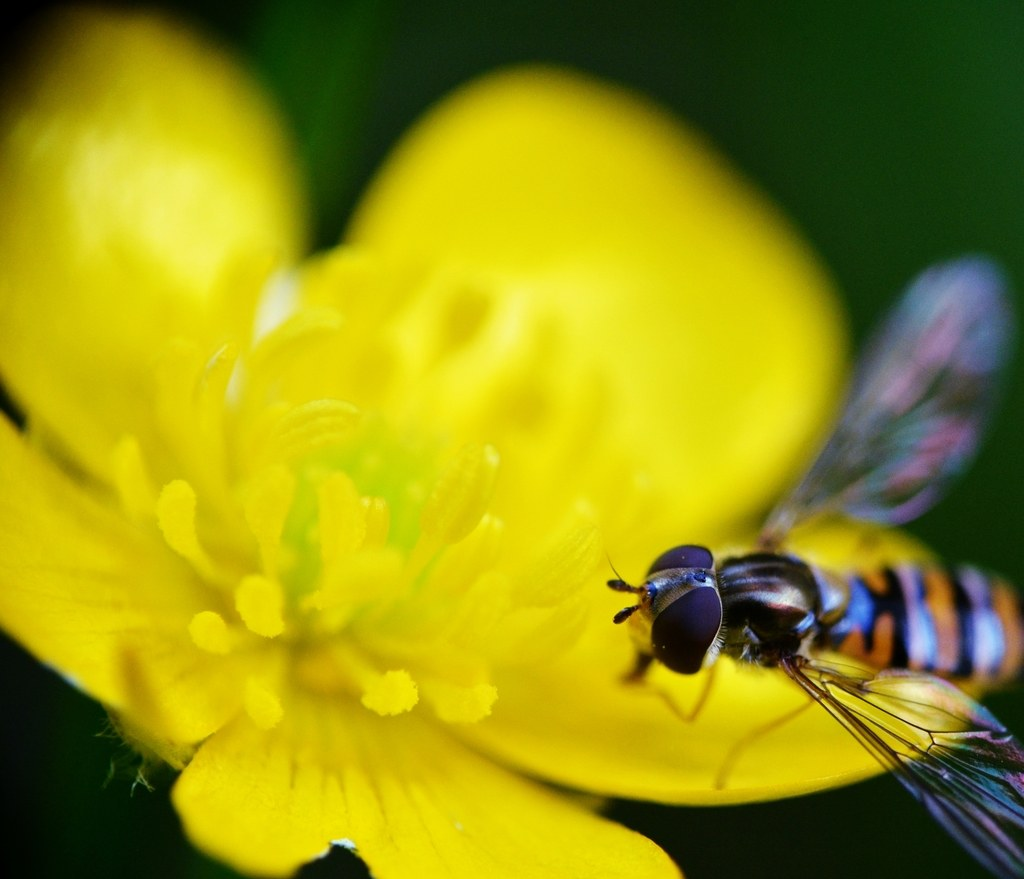bee: (587, 230, 1020, 879)
insect: (1, 11, 1022, 876)
